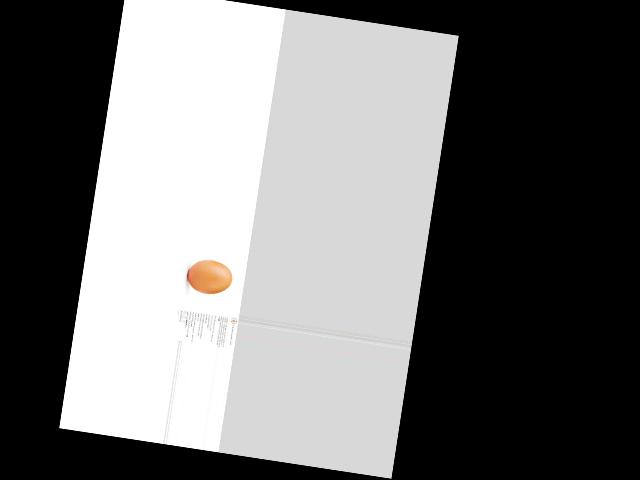egg: (185, 257, 234, 297)
